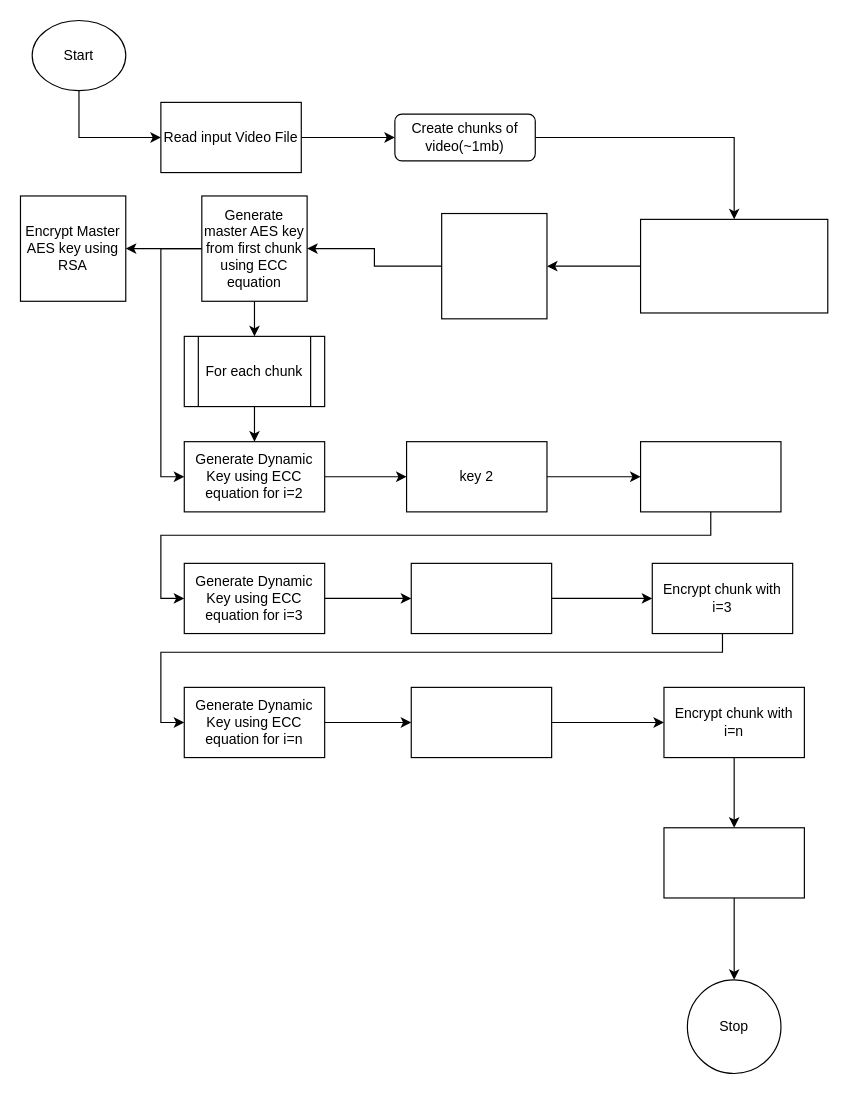
Image size: 848x1094. Some labels were removed from this diagram. Each missing label, with the centre of its shape:
"Encrypt chunk with i=2" belongs at point (710, 476).
"Generate VID from 16Bytes of first chunk" belongs at point (733, 265).
"key 3" belongs at point (481, 598).
"key n" belongs at point (481, 722).
"Read GUID and RSA public key" belongs at point (494, 265).
"Save encrypted chunks" belongs at point (733, 862).
